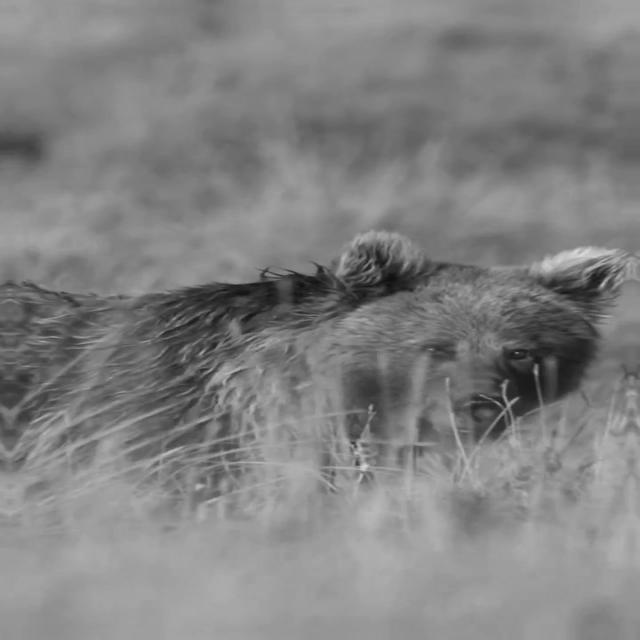Bear: (1, 229, 636, 527)
